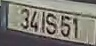1: (71, 17, 78, 40)
3: (18, 7, 30, 30)
4: (29, 10, 39, 32)
5: (60, 14, 72, 38)
I: (41, 10, 46, 34)
S: (44, 12, 56, 35)
